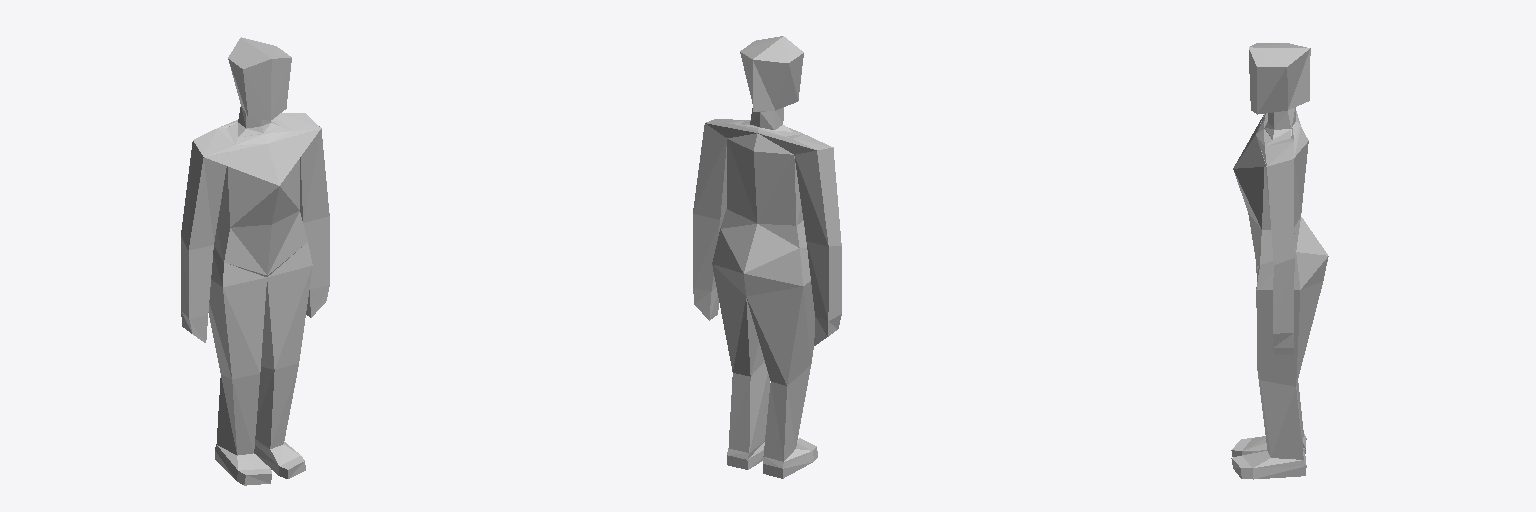
Rendered from fem-base model.obj.
3 views of the same model, side by side, from view 1: azimuth 30°, elevation 25°; view 2: azimuth 150°, elevation 25°; view 3: azimuth 270°, elevation 25° (orthographic).
Parts seen in each view (by area): view 1: body_Cube; view 2: body_Cube; view 3: body_Cube.
Part boxes in pixels (x1,y1,x2,y2): body_Cube: (181,37,329,485); body_Cube: (693,36,841,478); body_Cube: (1231,43,1328,479).
Size of the model in its own units: 3.63 by 10.25 by 2.17.